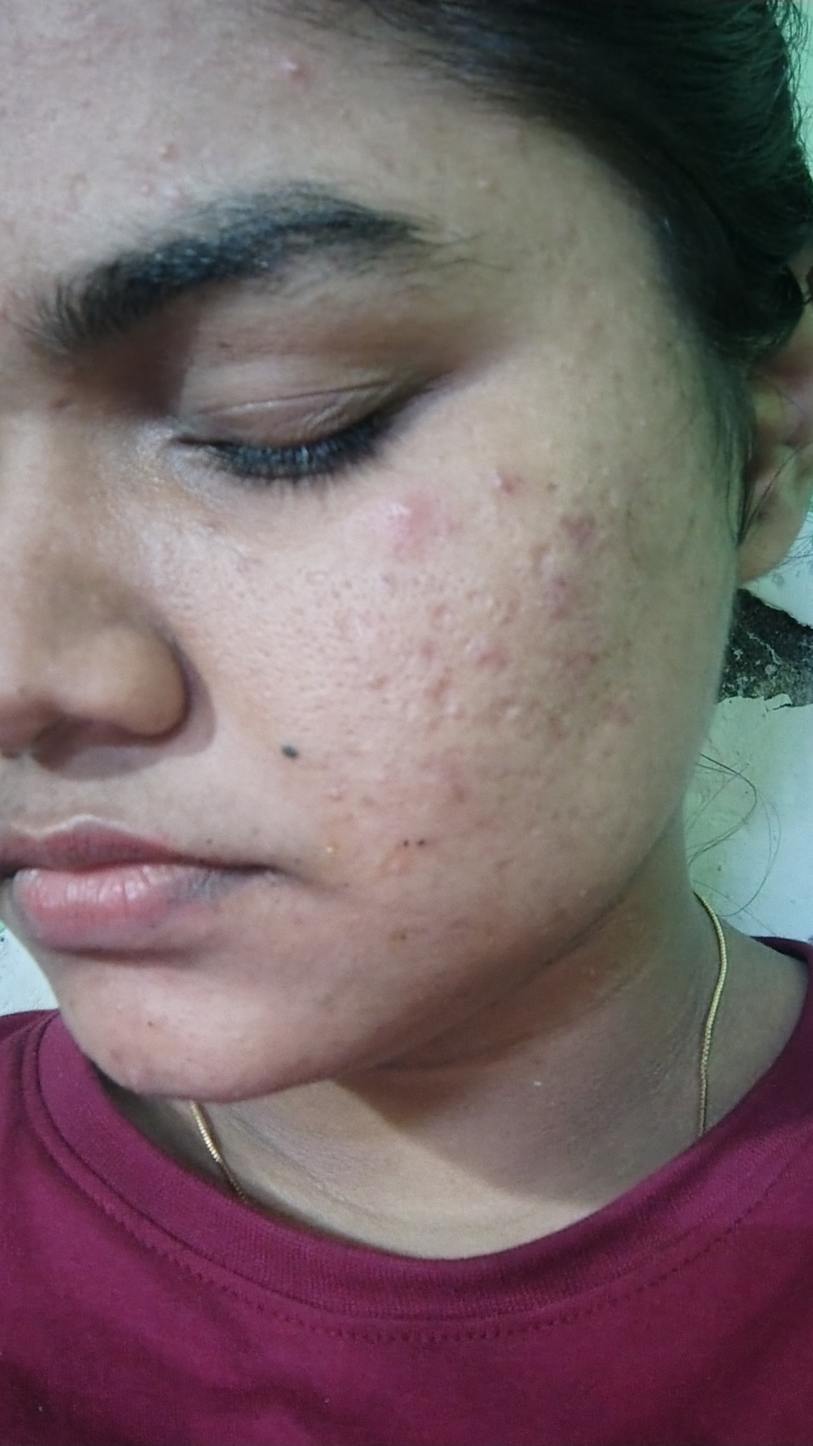papule: (378, 492, 446, 549), (484, 463, 522, 504)
pustule: (251, 37, 341, 108)
